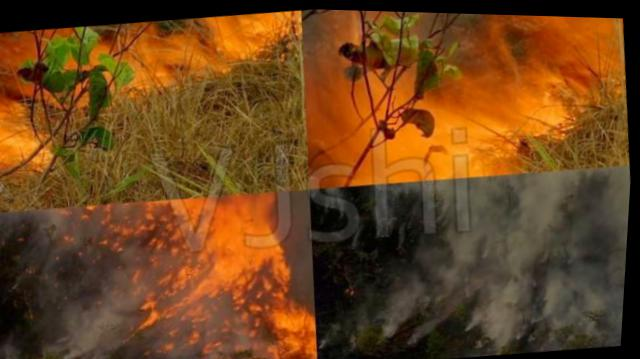fire: (307, 7, 623, 185), (0, 9, 301, 176), (99, 191, 328, 357)
